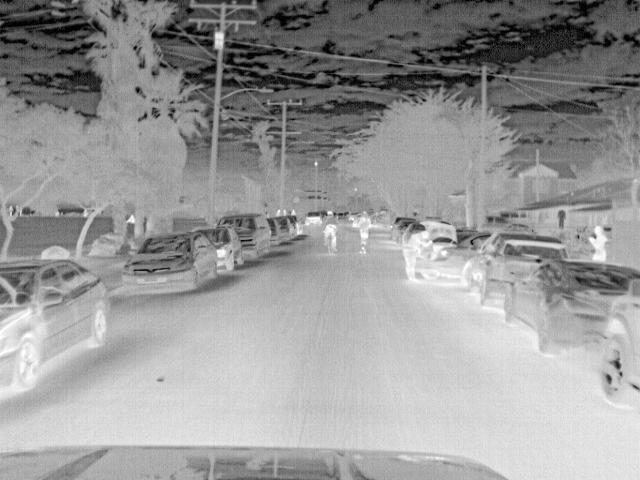car: (0, 258, 109, 396), (501, 258, 639, 355), (461, 230, 567, 308), (122, 233, 218, 297), (596, 286, 639, 406), (431, 232, 490, 287), (412, 219, 458, 282), (218, 214, 272, 260), (192, 229, 243, 272), (273, 216, 295, 241), (265, 218, 281, 246), (287, 218, 303, 238), (303, 212, 325, 224)
person: (402, 228, 434, 284), (585, 223, 612, 266), (318, 208, 342, 252), (354, 208, 373, 257)
